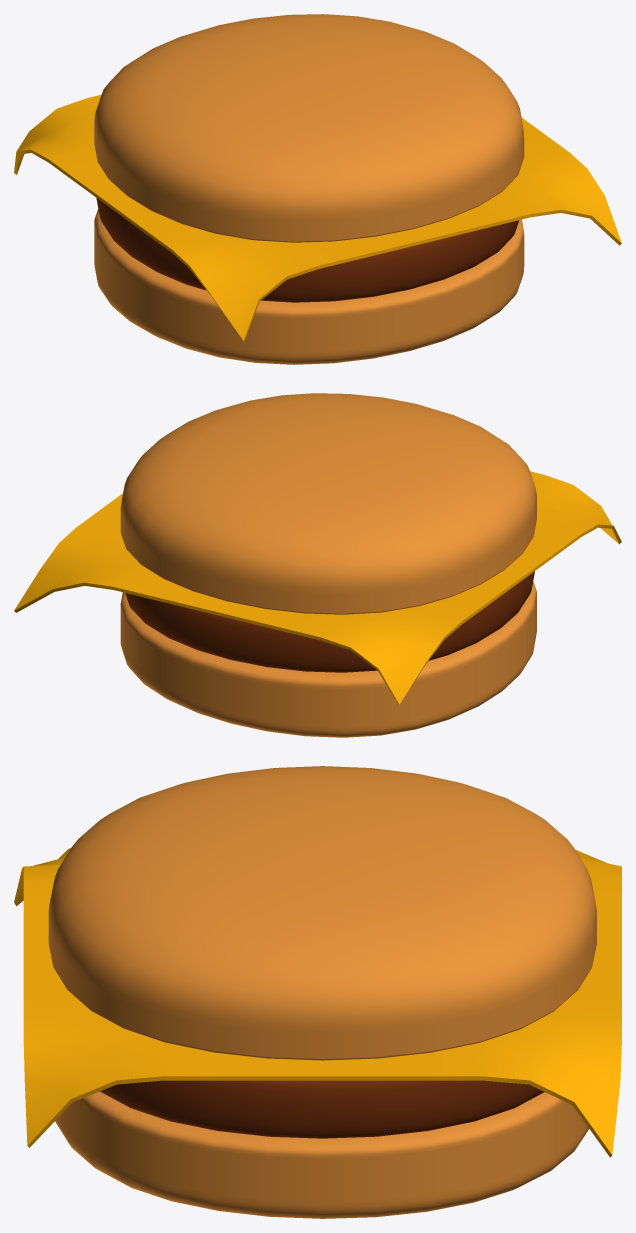
Rendered from burger.gltf.
The picture shows the model from 3 angles, top to bottom: view 1: azimuth 30°, elevation 25°; view 2: azimuth 150°, elevation 25°; view 3: azimuth 270°, elevation 25°; orthographic projection. The views are drawn at different scales.
Parts seen in each view (by area): view 1: Cube.002, Cube, Plane, Cube.001; view 2: Cube.002, Cube, Plane, Cube.001; view 3: Cube.002, Plane, Cube, Cube.001.
Part boxes in pixels (x1=…): Cube.002: x1=94, y1=14, x2=524, y2=242; Cube: x1=94, y1=209, x2=524, y2=364; Plane: x1=14, y1=94, x2=621, y2=341; Cube.001: x1=96, y1=198, x2=519, y2=302; Cube.002: x1=120, y1=393, x2=536, y2=614; Cube: x1=120, y1=581, x2=536, y2=737; Plane: x1=14, y1=471, x2=621, y2=705; Cube.001: x1=125, y1=571, x2=534, y2=672; Cube.002: x1=48, y1=766, x2=596, y2=1060; Plane: x1=14, y1=848, x2=621, y2=1157; Cube: x1=55, y1=1091, x2=589, y2=1218; Cube.001: x1=100, y1=1080, x2=544, y2=1138.
Bounding box in the file's own units: 10.37 × 5.32 × 10.16.
